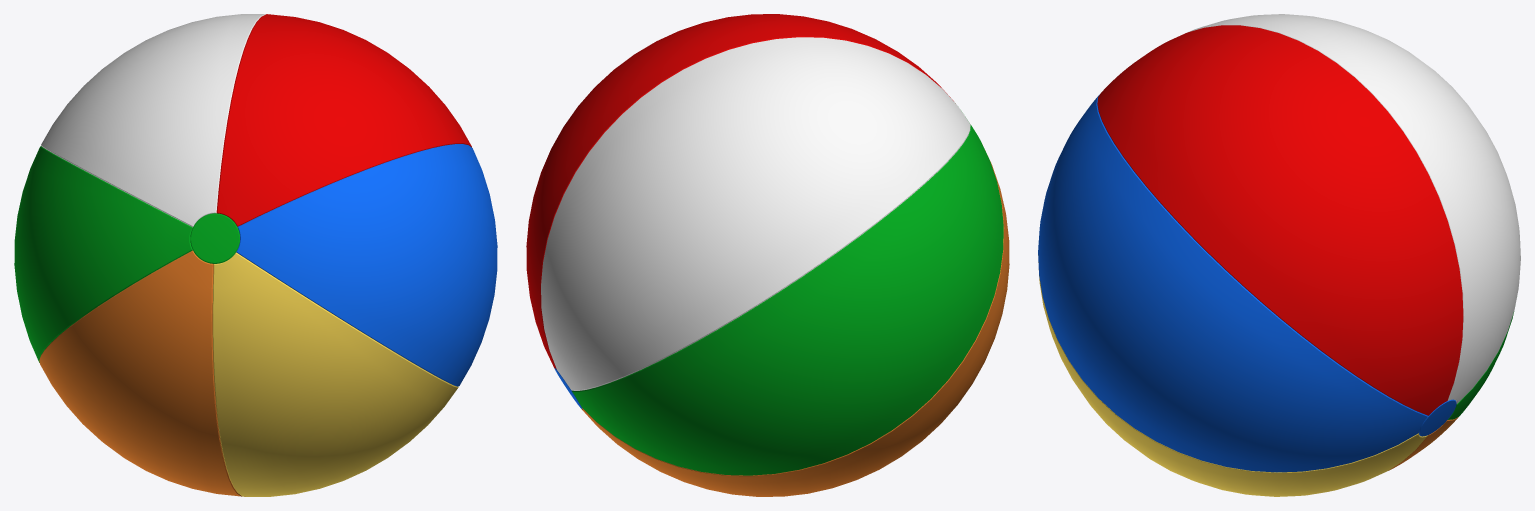
The model's file is BeachBall.FBX.
3 renders of one model, left to right at view 1: azimuth 30°, elevation 25°; view 2: azimuth 150°, elevation 25°; view 3: azimuth 270°, elevation 25°, orthographic.
Visible parts, largest first — view 1: beachball; view 2: beachball; view 3: beachball.
Boxes of the visible parts, x1,y1,x2,y2 form: beachball: [14, 14, 497, 496]; beachball: [526, 14, 1009, 496]; beachball: [1038, 14, 1520, 496].
Bounding box in the file's own units: 99.91 × 99.92 × 99.98.
